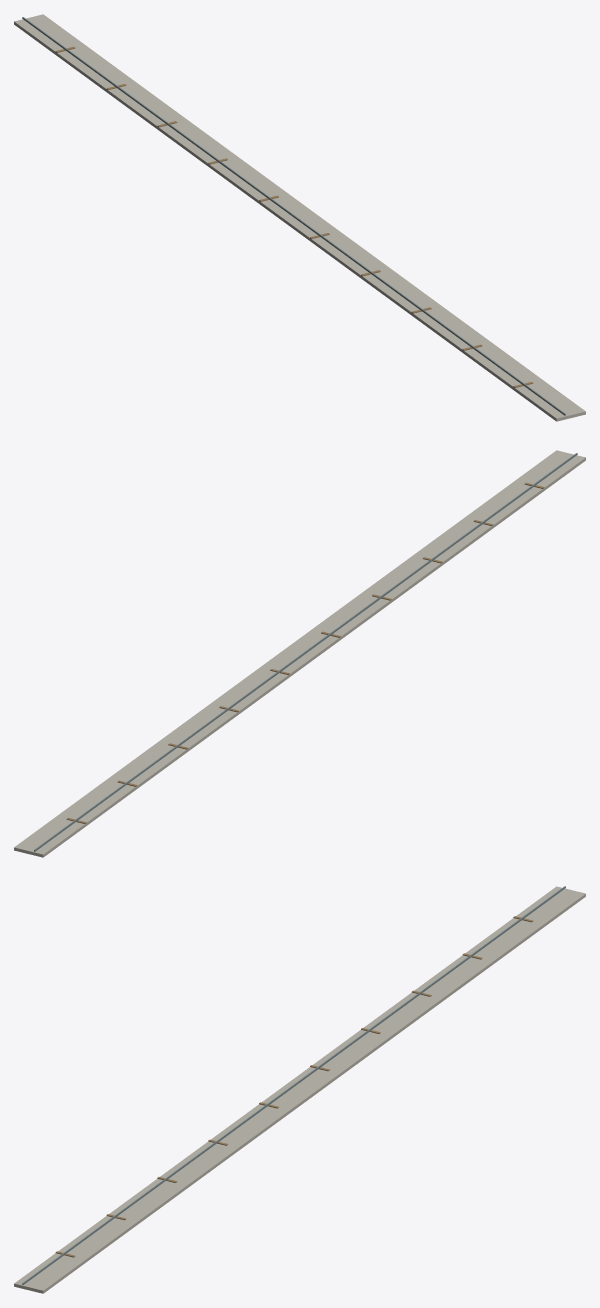
Rendered from valley-8-14.glb.
3 views of the same model, one above another, from view 1: azimuth 30°, elevation 25°; view 2: azimuth 150°, elevation 25°; view 3: azimuth 330°, elevation 25° (orthographic).
Visible parts, largest first — view 1: valley-8-14; view 2: valley-8-14; view 3: valley-8-14.
Part boxes in pixels (x1,y1,x2,y2): valley-8-14: (14, 14, 585, 421); valley-8-14: (14, 450, 585, 857); valley-8-14: (14, 886, 585, 1293).
Bounding box in the file's own units: 4 × 0.7 × 128.
